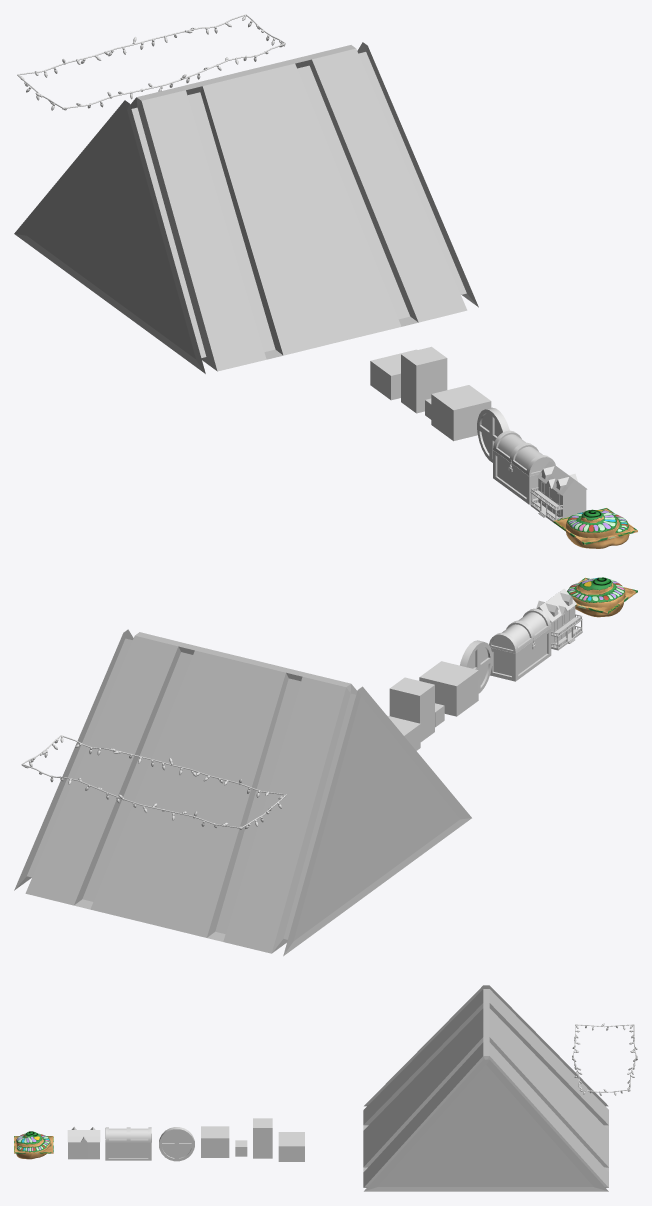
The picture shows the model from 3 angles, top to bottom: view 1: azimuth 30°, elevation 25°; view 2: azimuth 150°, elevation 25°; view 3: azimuth 270°, elevation 25°; orthographic projection. The views are drawn at different scales.
Visible parts, largest first — view 1: estructura, Cajas, Cofre, casa muñecas, LUCES, montaña, Ventana; view 2: estructura, Cajas, Cofre, LUCES, casa muñecas, montaña, Ventana; view 3: estructura, Cajas, Cofre, Ventana, casa muñecas, montaña, LUCES.
Part boxes in pixels (x1,y1,x2,y2): estructura: (14,42,478,373); Cajas: (370,346,491,441); Cofre: (493,430,555,504); casa muñecas: (530,461,587,522); LUCES: (17,14,285,110); montaña: (566,509,629,548); Ventana: (477,407,509,462); estructura: (14,629,471,956); Cajas: (387,661,478,750); Cofre: (489,608,551,681); LUCES: (21,735,286,829); casa muñecas: (536,588,582,650); montaña: (567,577,625,617); Ventana: (460,640,492,693); estructura: (363,985,608,1191); Cajas: (201,1118,304,1161); Cofre: (105,1127,151,1160); Ventana: (159,1127,194,1161); casa muñecas: (67,1127,100,1159); montaña: (16,1131,50,1159); LUCES: (572,1023,637,1095).
Bounding box in the file's own units: 1478 × 1099 × 4574.
